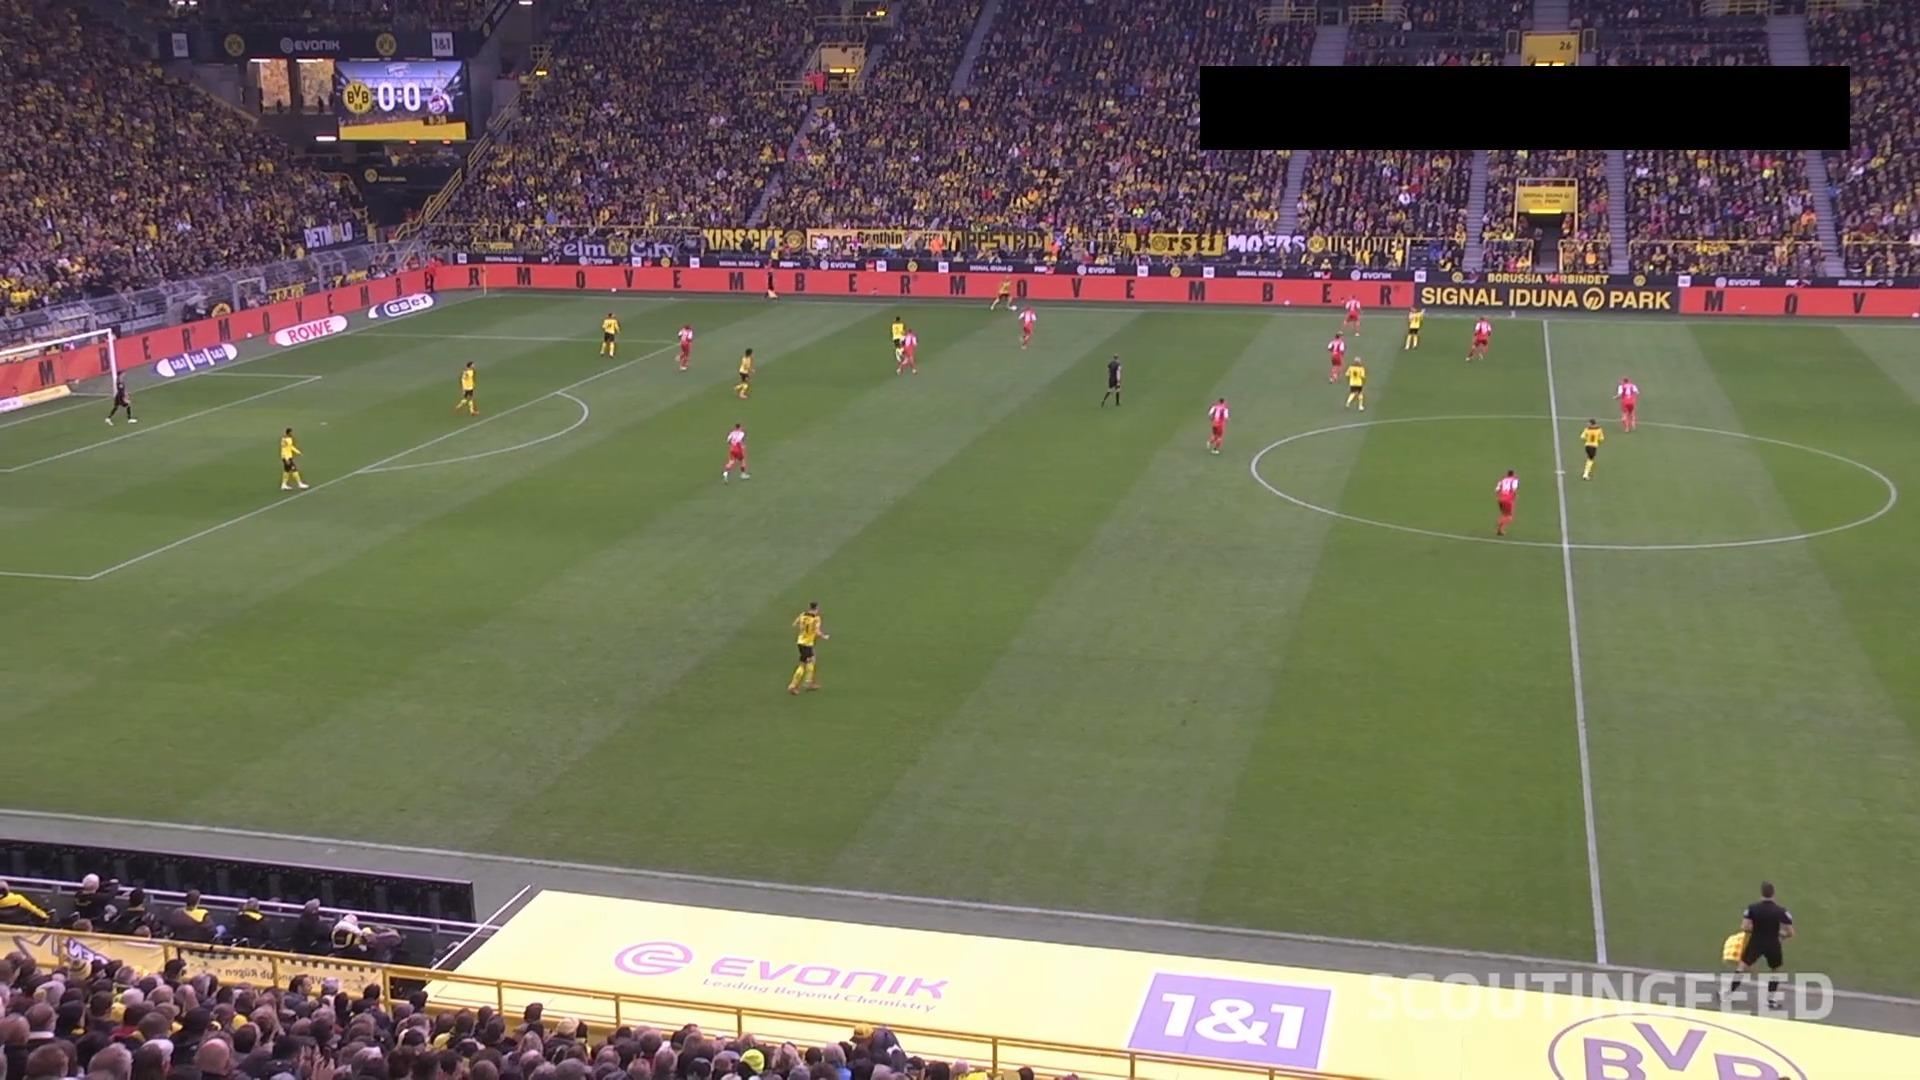player: (787, 600, 829, 694), (278, 426, 309, 490), (103, 368, 137, 425), (1493, 468, 1519, 535), (721, 422, 750, 481), (1578, 417, 1603, 479), (1204, 396, 1229, 454), (454, 359, 479, 415), (1614, 376, 1639, 431), (1464, 314, 1492, 362), (1343, 355, 1366, 410), (1325, 331, 1346, 383), (733, 347, 754, 398), (896, 327, 918, 375), (598, 310, 619, 358), (988, 275, 1016, 311), (889, 315, 905, 372), (1341, 293, 1362, 336), (1403, 304, 1423, 349), (674, 323, 693, 370), (1016, 305, 1036, 349)
referee: (1728, 880, 1795, 1009), (1100, 353, 1122, 406), (764, 269, 778, 300)
